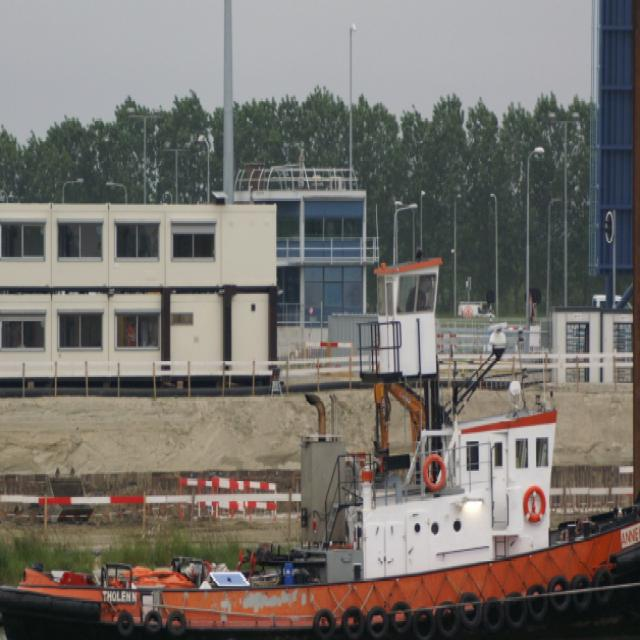tugboat: (1, 252, 640, 640)
